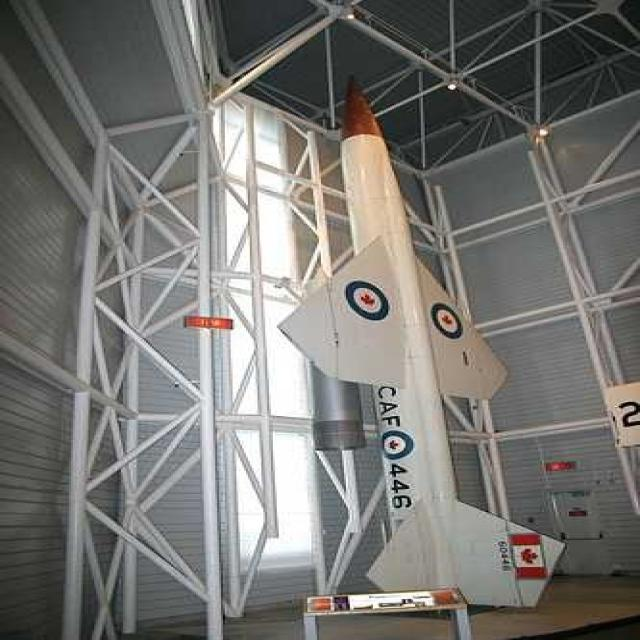missile: (271, 73, 565, 613)
